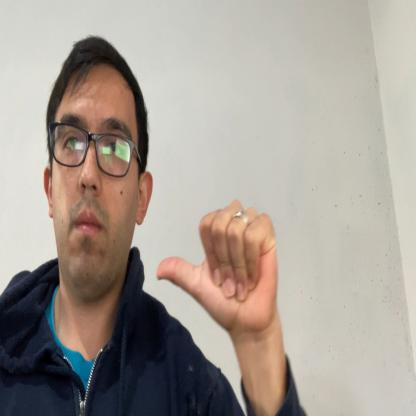A: (156, 200, 278, 334)
